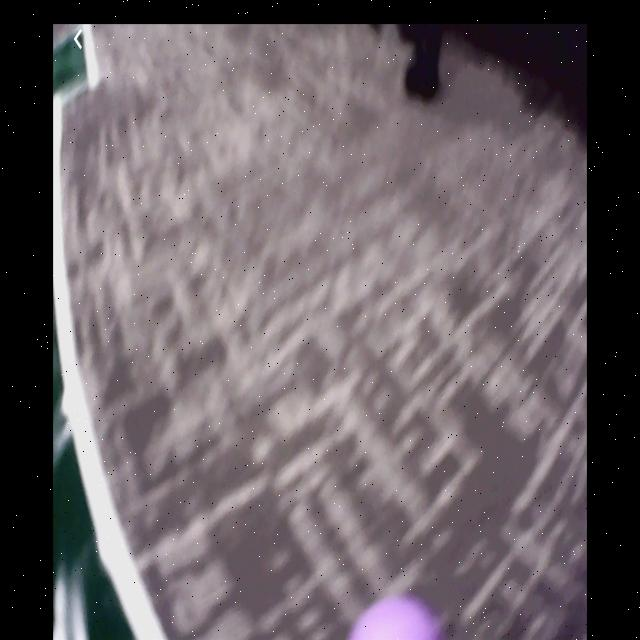ball: (350, 601, 441, 640)
